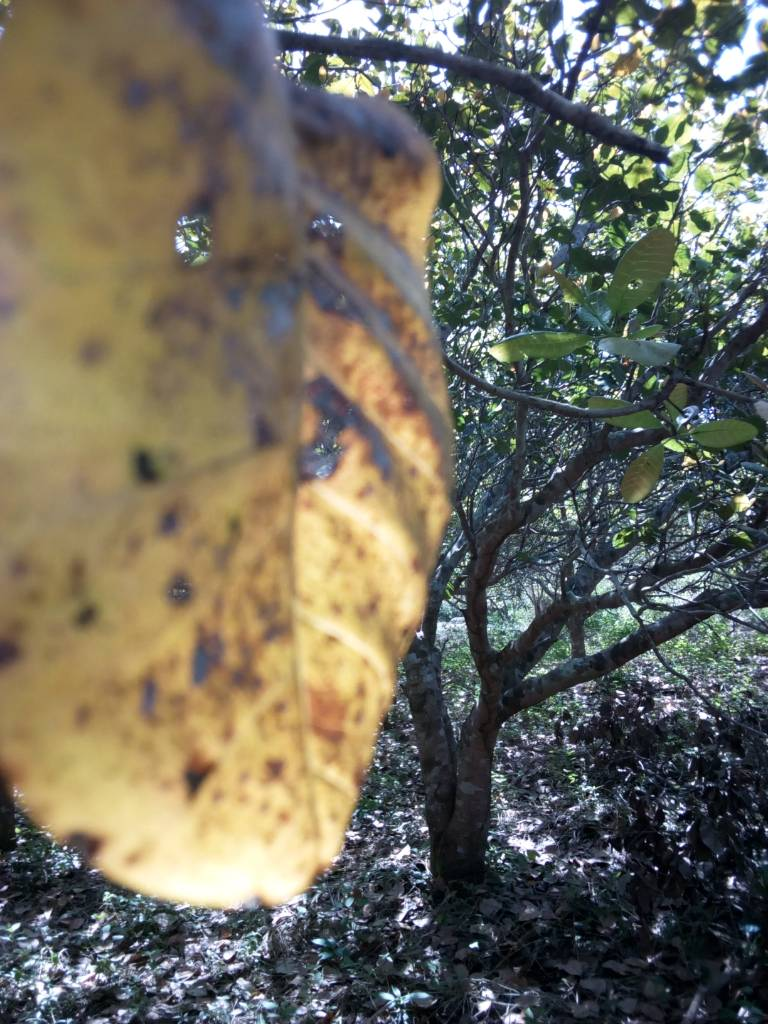Anthracnose: (25, 19, 456, 916)
